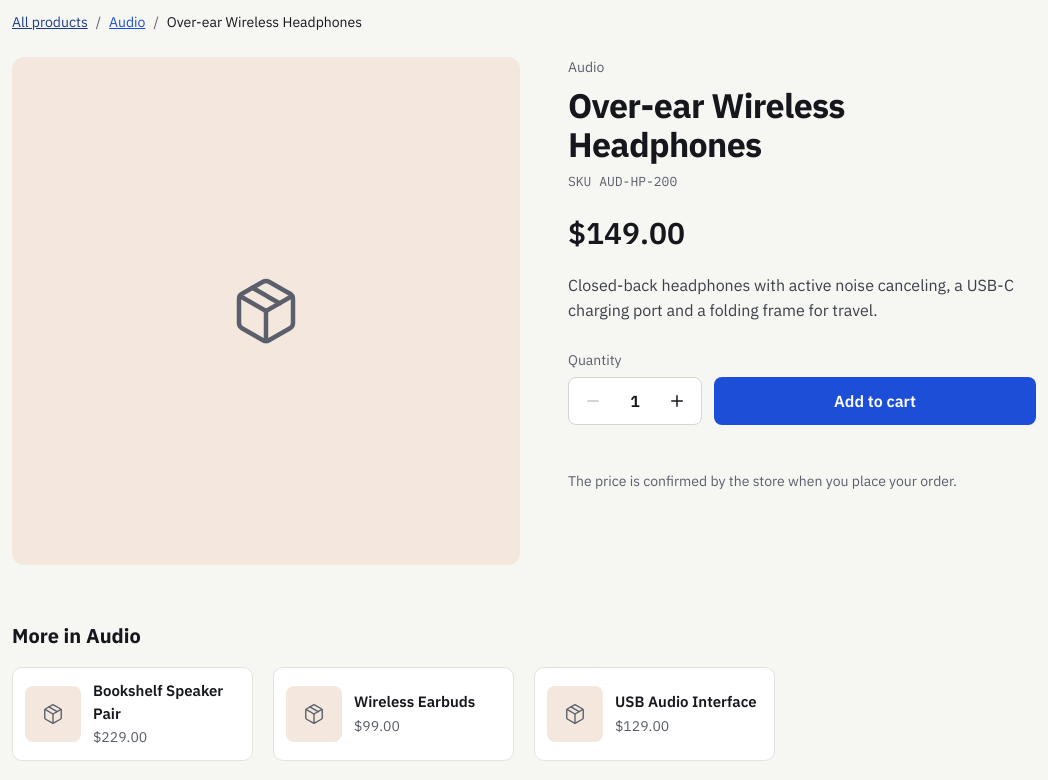
it: ProductPage › starts each product at quantity 1
The width and height of the screenshot is (1048, 780).
Click the button named "Increase quantity" at (677, 401), box [653,378,701,424]
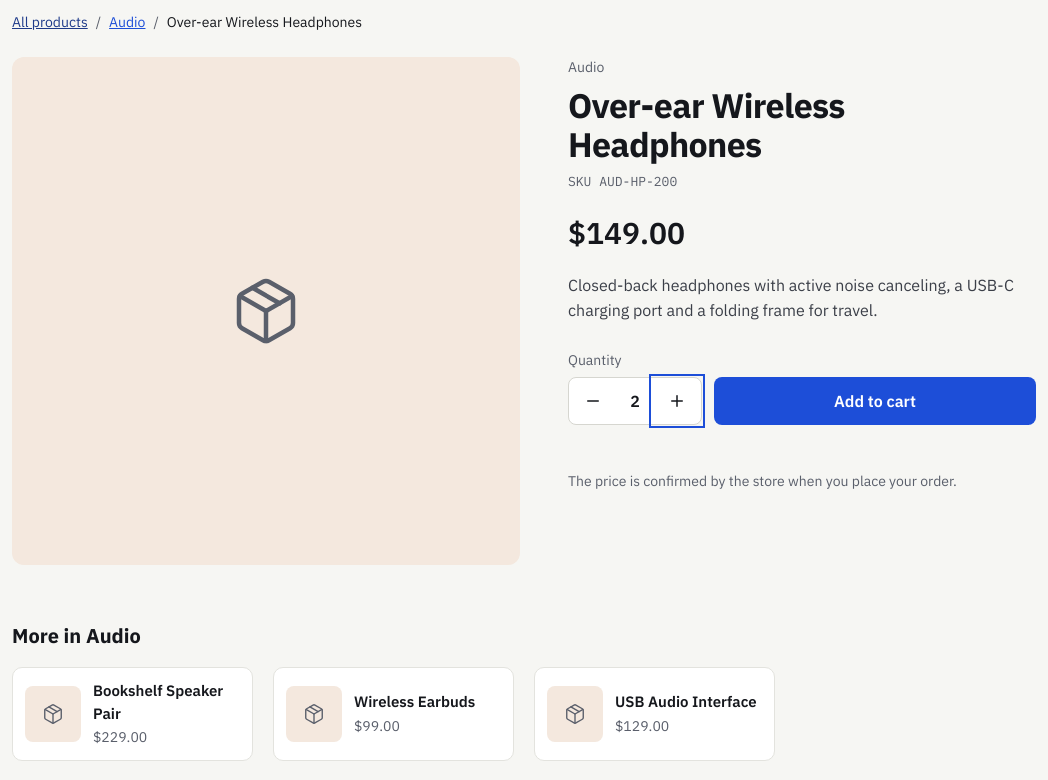
Expected: the element named "Quantity" reads "2", [630,391,640,411]
Click the link "Bookshelf Speaker Pair $229.00" at (132, 714), box [12,667,253,761]
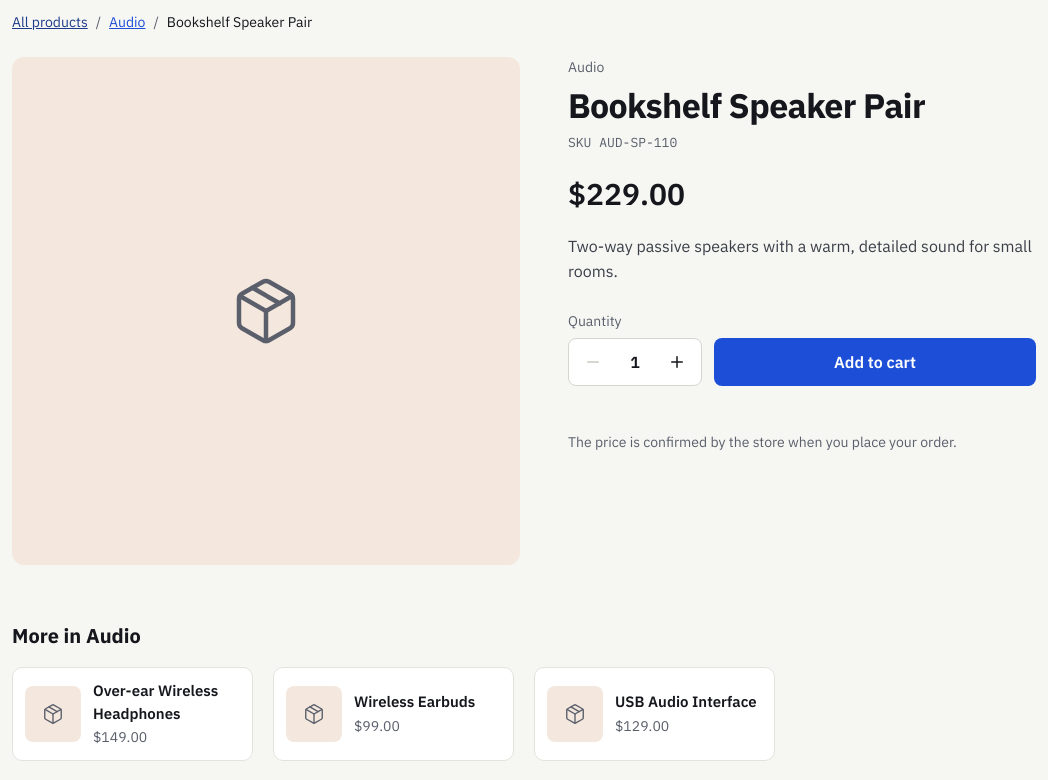
Expected: the heading "Bookshelf Speaker Pair" is shown, [568,83,925,127]
Expected: the element named "Quantity" reads "1", [630,352,640,372]
